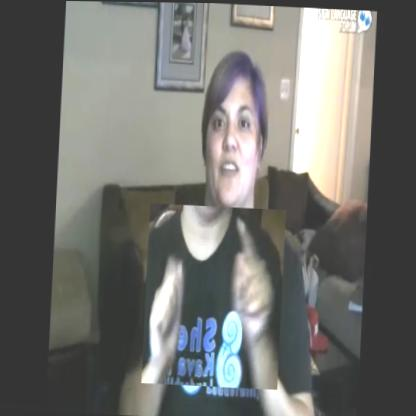NiceToMeetYou: (143, 203, 287, 389)
